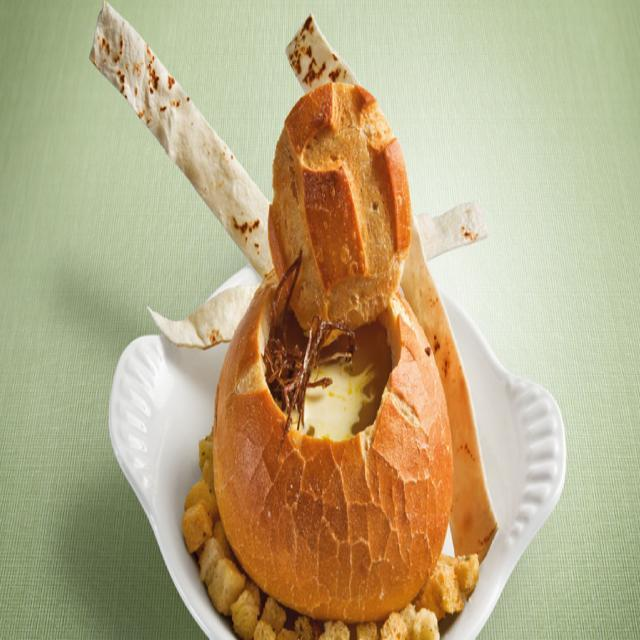Bread: (268, 77, 410, 345)
